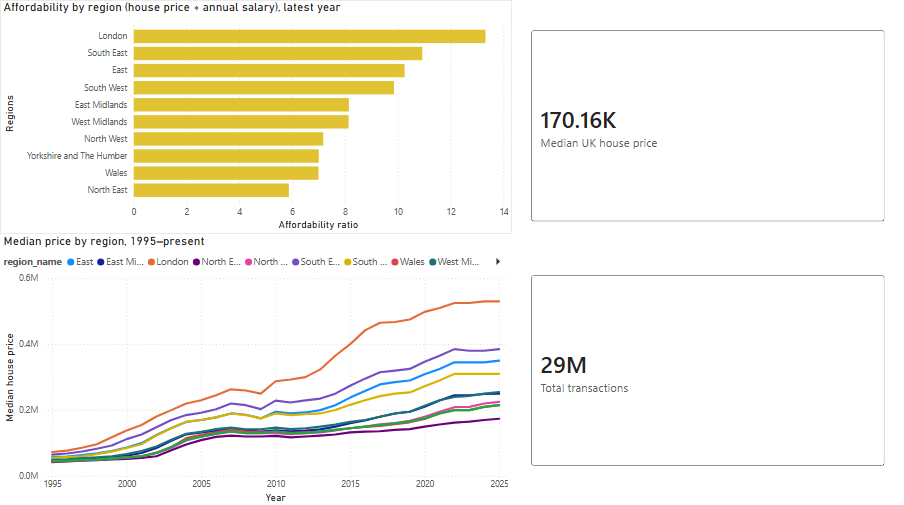

Layout of this report page (visuals, bound fields, positions):
{"tool":"powerbi","page":{"name":"National Overview","canvas":[1280,720],"ordinal":0},"visuals":[{"type":"clusteredBarChart","title":"Affordability by region (house price ÷ annual salary), latest year","fields":{"Category":["dim_region_pbi.region_name"],"Y":["Avg(public v_affordability.affordability_ratio)"]},"box":[9.8,9.8,717,327.7],"z":0},{"type":"lineChart","title":"Median price by region, 1995–present","fields":{"Y":["Avg(public v_median_price.median_price)"],"Category":["dim_year_pbi.year"],"Series":["dim_region_pbi.region_name"]},"box":[9.8,337.5,717,382.3],"z":1000},{"type":"cardVisual","fields":{"Data":["Avg(public v_median_price.median_price)"]},"box":[736.6,35,529.4,302.5],"z":2000},{"type":"cardVisual","fields":{"Data":["Sum(public v_volume.transaction_count)"]},"box":[736.6,378.1,529.4,301.1],"z":3000}]}

Visuals, with their boxes in screenshot pixels (x1, y1, x2, y2), scaled from the page's 1280x720 canvas onto the 904x505 screenshot:
"Affordability by region (house price ÷ annual salary), latest year" clusteredBarChart: 7:7:513:237
"Median price by region, 1995–present" lineChart: 7:237:513:504
cardVisual - Avg(public v_median_price.median_price): 520:25:894:237
cardVisual - Sum(public v_volume.transaction_count): 520:265:894:476
